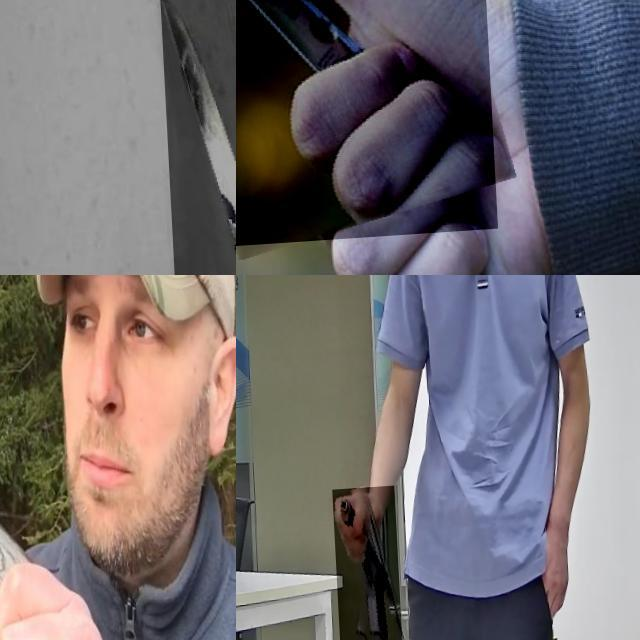-: (236, 0, 493, 252), (0, 275, 133, 580), (156, 0, 236, 275)
gun-knife-thesis - v11 Yolov5 augmented: (329, 489, 397, 640)
